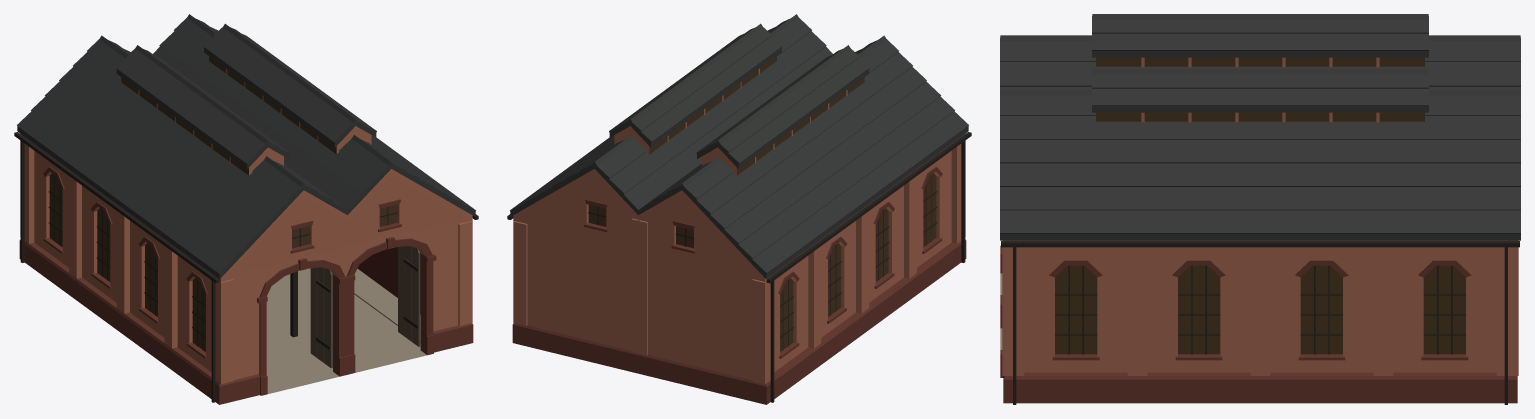
The model's file is engine-shed-eff627.glb.
3 views of the same model, side by side, from view 1: azimuth 30°, elevation 25°; view 2: azimuth 150°, elevation 25°; view 3: azimuth 270°, elevation 25° (orthographic). The views are drawn at different scales.
Visible parts, largest first — view 1: shed, door-2r-leaf, door-1r-leaf; view 2: shed; view 3: shed.
Boxes of the visible parts, box(x1,y1,x2,y2) form: shed: box(14, 14, 478, 404); door-2r-leaf: box(398, 246, 420, 346); door-1r-leaf: box(310, 267, 332, 368); shed: box(507, 14, 971, 404); shed: box(1000, 14, 1520, 404).
Bounding box in the file's own units: 12 × 9.56 × 16.
